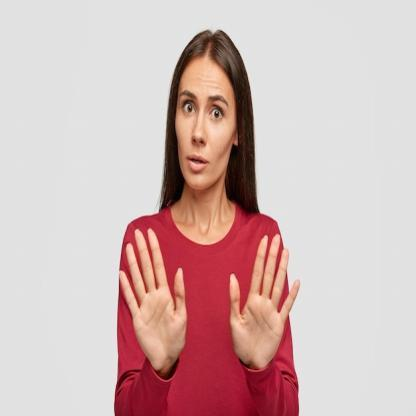stop: (118, 222, 190, 381), (226, 230, 302, 376)
